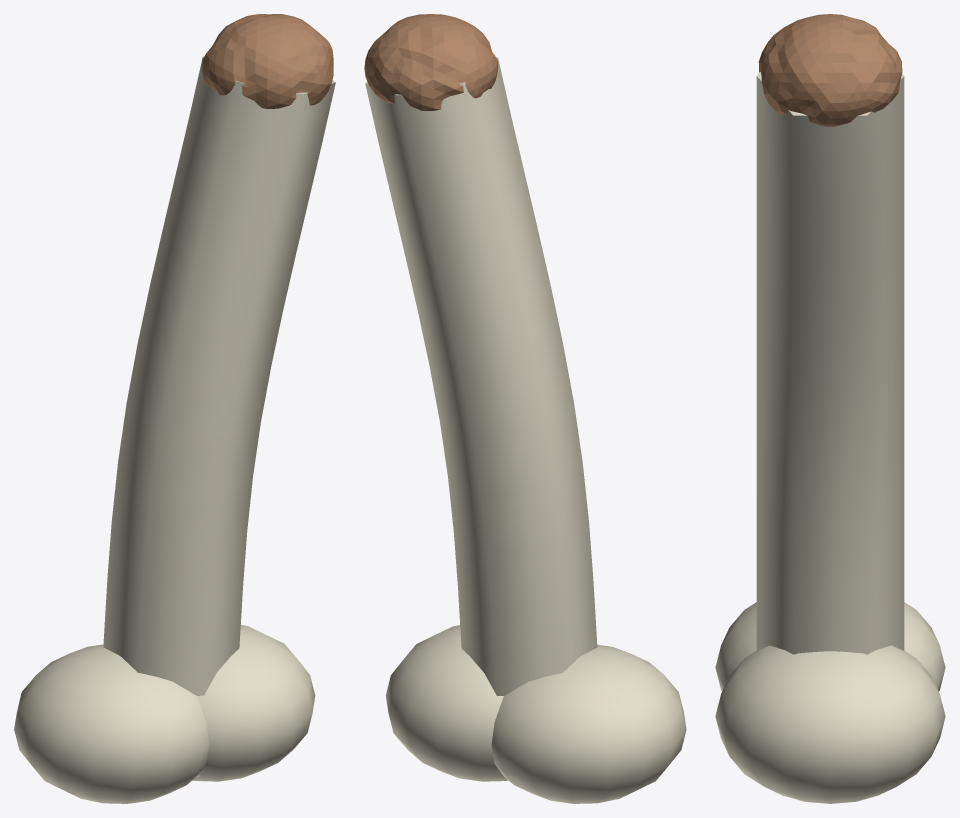
File: prehistoric-expedition-sites-long-bone-fragment-ec76f5c1__26109.glb
3 views of the same model, side by side, from view 1: azimuth 30°, elevation 25°; view 2: azimuth 150°, elevation 25°; view 3: azimuth 270°, elevation 25° (orthographic). The views are drawn at different scales.
Parts seen in each view (by area): view 1: long-bone-fragment; view 2: long-bone-fragment; view 3: long-bone-fragment.
Boxes of the visible parts, box(x1,y1,x2,y2) form: long-bone-fragment: box(14, 14, 335, 803); long-bone-fragment: box(364, 14, 686, 803); long-bone-fragment: box(715, 14, 945, 803).
Size of the model in its own units: 0.2294 by 0.5357 by 0.14.
